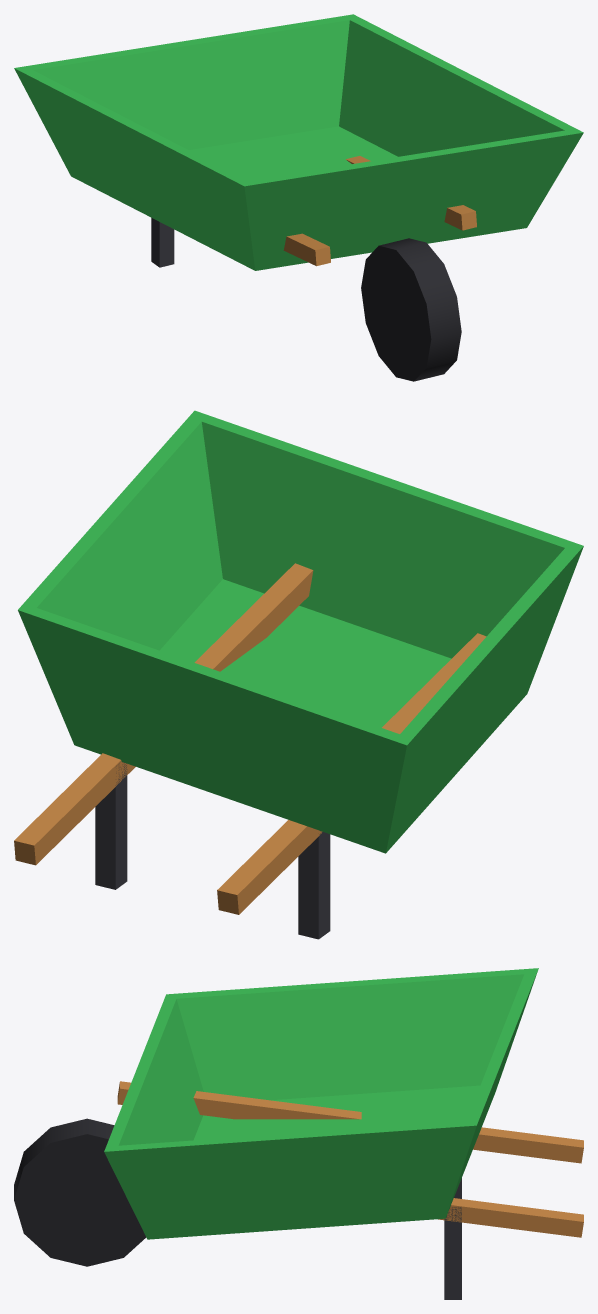
File: Wheelbarrow.fbx
The picture shows the model from 3 angles, top to bottom: view 1: azimuth 30°, elevation 25°; view 2: azimuth 150°, elevation 25°; view 3: azimuth 270°, elevation 25°; orthographic projection. The views are drawn at different scales.
Visible parts, largest first — view 1: Wheelbarrow; view 2: Wheelbarrow; view 3: Wheelbarrow.
Boxes of the visible parts, <box> form: Wheelbarrow: <box>14,14,583,381</box>; Wheelbarrow: <box>14,410,583,939</box>; Wheelbarrow: <box>14,968,583,1299</box>.
Size of the model in its own units: 2.97 by 1.5 by 3.89.
Materials: 1 (1 with a texture image).
